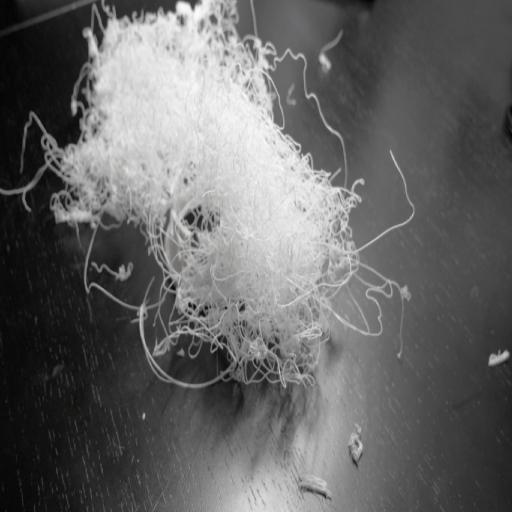spaghetti: (36, 3, 413, 401)
